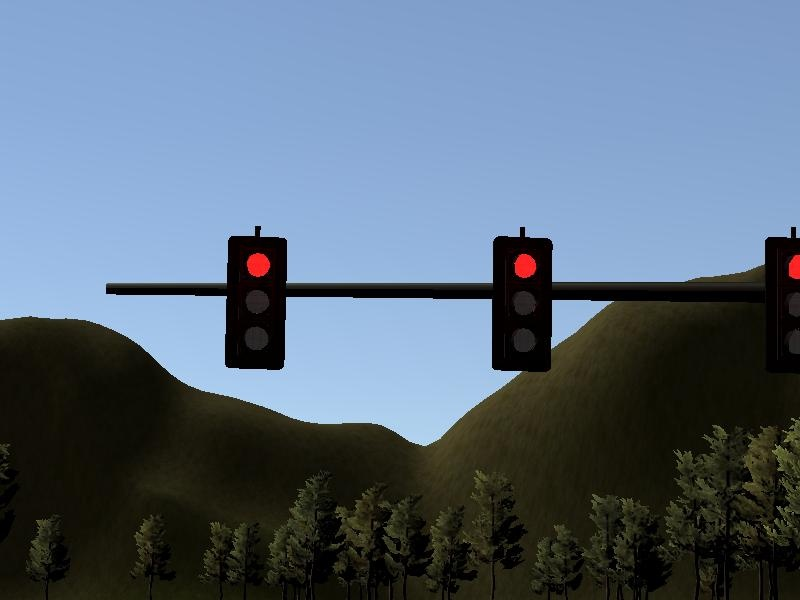traffic_light_red: (199, 225, 800, 373)
